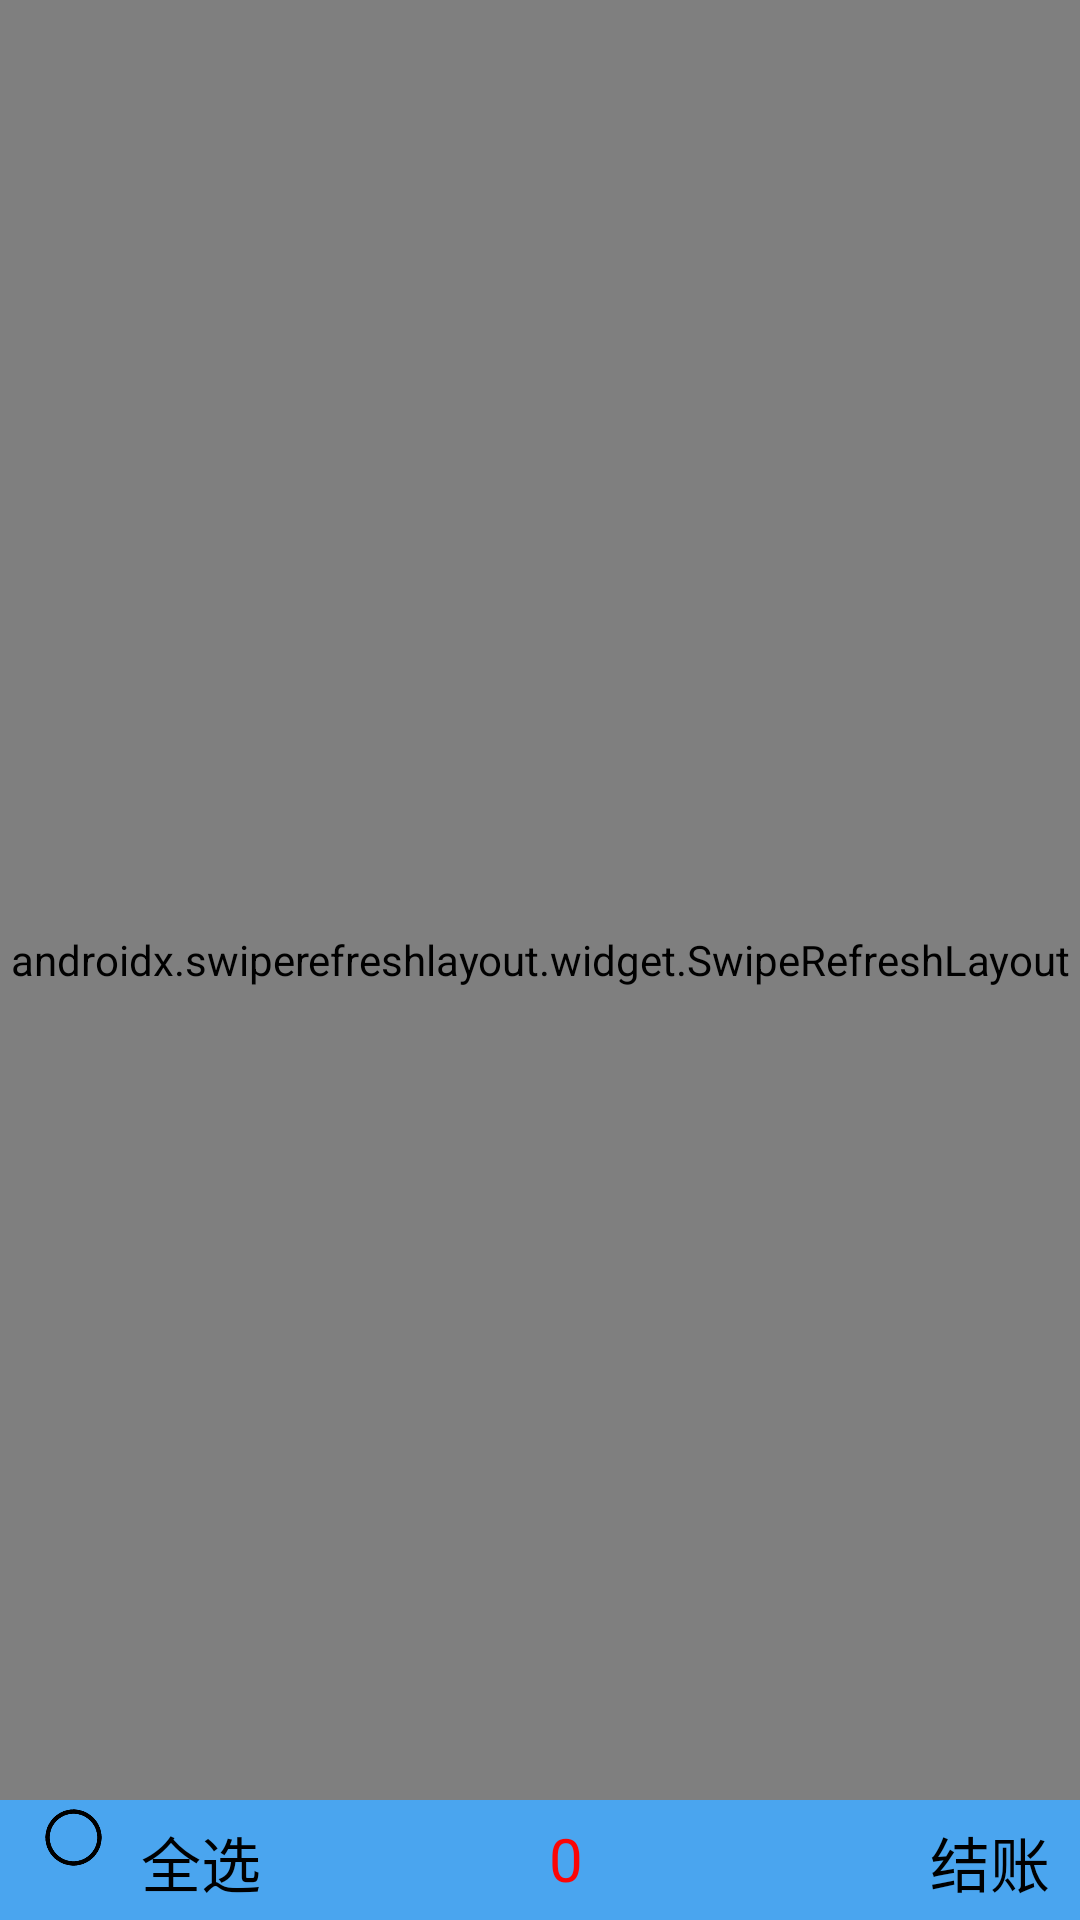

Where icons sit on this 1080 × 1920 app screen, as (x1, y1, x2, y2):
choice: (45, 1809, 102, 1866)
